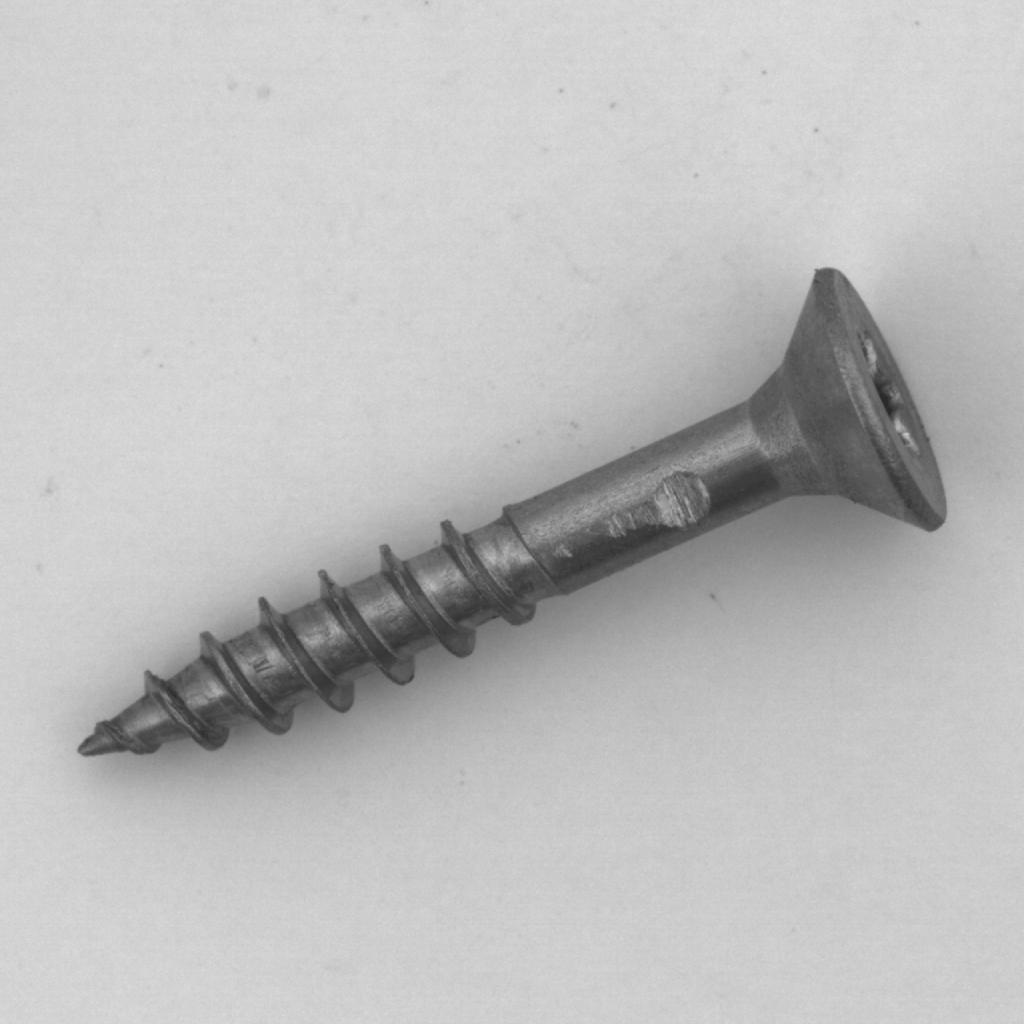bad: (58, 239, 956, 798)
